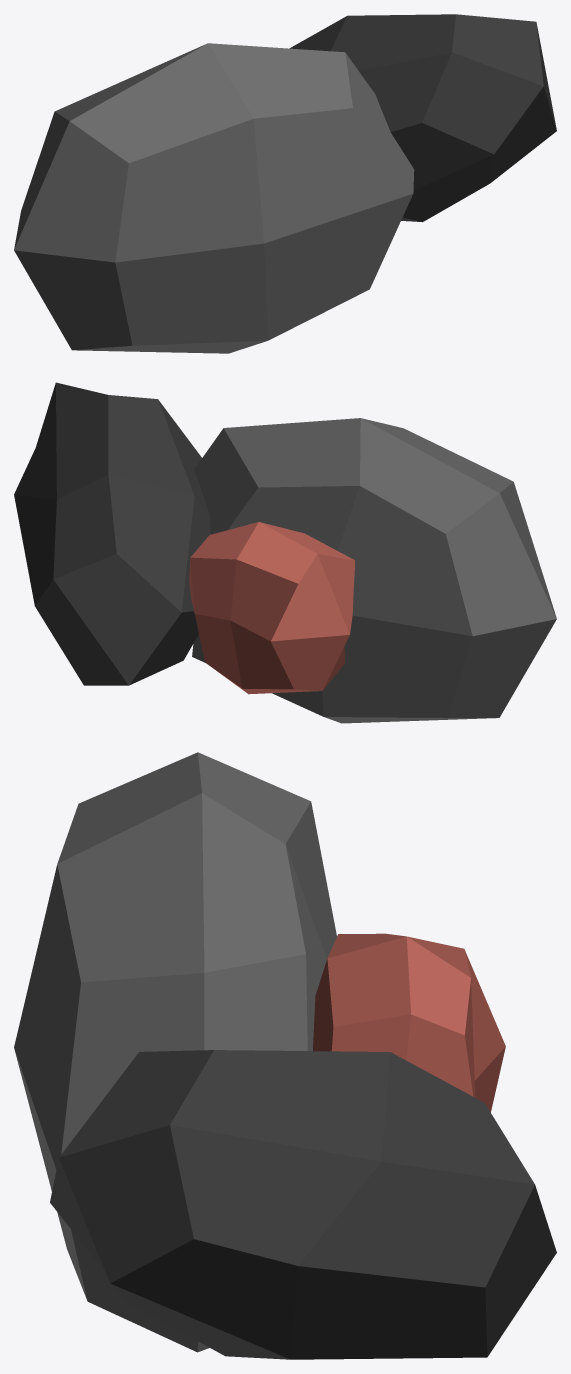
Rendered from rocks1.fbx.
The picture shows the model from 3 angles, top to bottom: view 1: azimuth 30°, elevation 25°; view 2: azimuth 150°, elevation 25°; view 3: azimuth 270°, elevation 25°; orthographic projection. The views are drawn at different scales.
Visible parts, largest first — view 1: Rocks 1; view 2: Rocks 1; view 3: Rocks 1.
Boxes of the visible parts, x1,y1,x2,y2 form: Rocks 1: (14,14,556,353); Rocks 1: (14,382,556,723); Rocks 1: (14,752,556,1359).
Bounding box in the file's own units: 21212 × 12083 × 11629.
